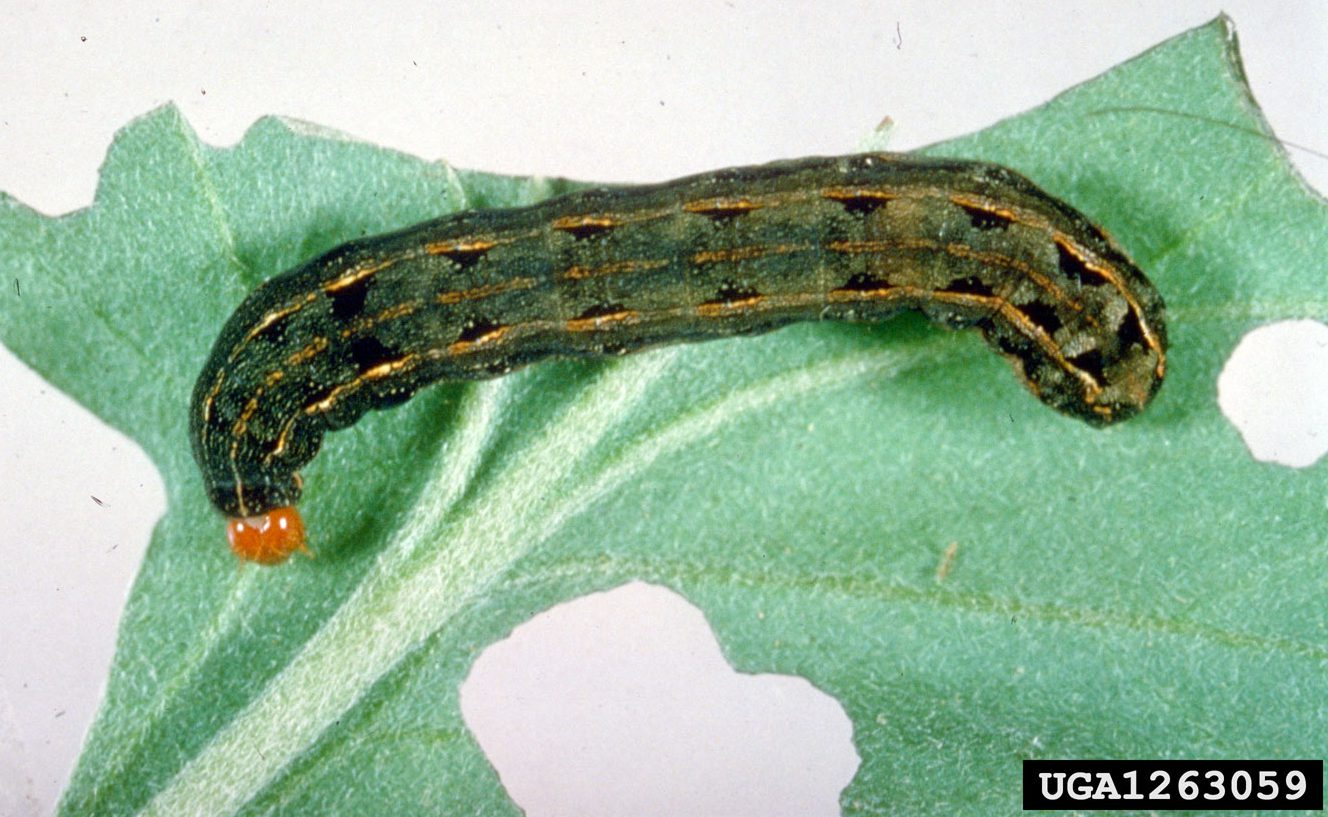Armyworm: (161, 126, 1177, 580)
